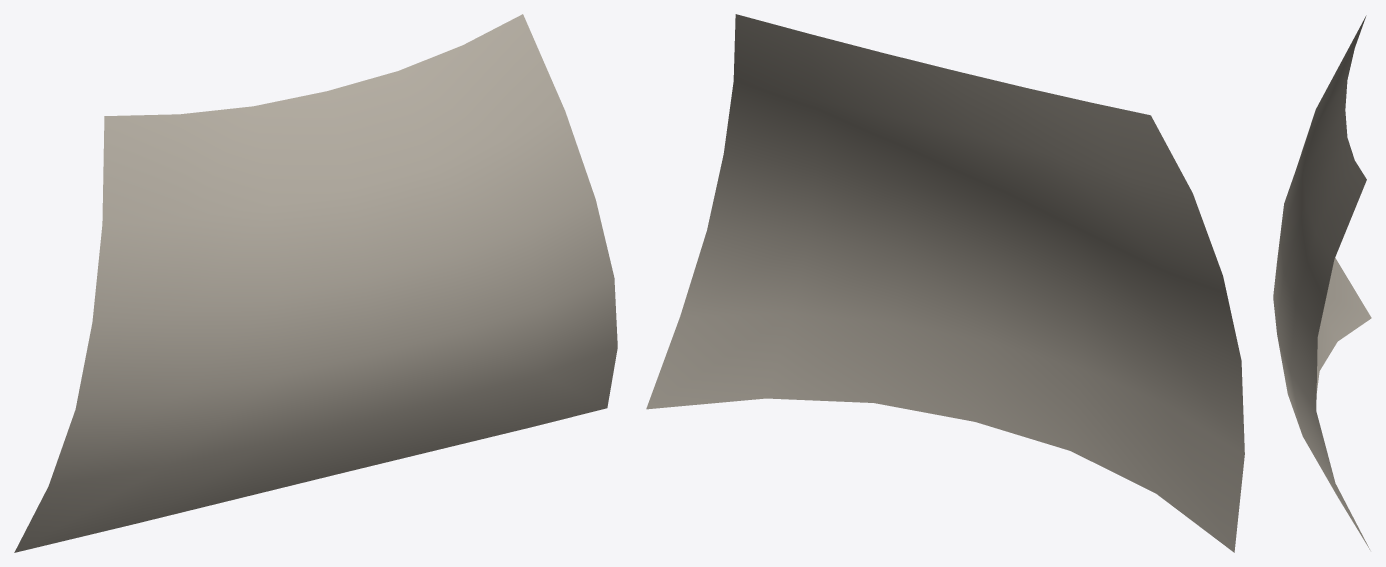
Rendered from Sail_Custom_02.fbx.
3 views of the same model, side by side, from view 1: azimuth 30°, elevation 25°; view 2: azimuth 150°, elevation 25°; view 3: azimuth 270°, elevation 25° (orthographic). The views are drawn at different scales.
Parts seen in each view (by area): view 1: Sail_Custom_02; view 2: Sail_Custom_02; view 3: Sail_Custom_02.
Boxes of the visible parts, x1=… form: Sail_Custom_02: x1=14, y1=14, x2=617, y2=552; Sail_Custom_02: x1=646, y1=14, x2=1244, y2=552; Sail_Custom_02: x1=1273, y1=15, x2=1371, y2=550.
Size of the model in its own units: 437 by 294 by 77.69.
